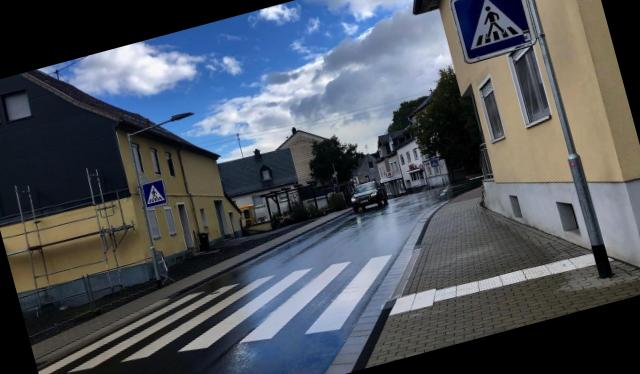crosswalk-sign: (447, 1, 539, 66), (140, 179, 170, 211)
